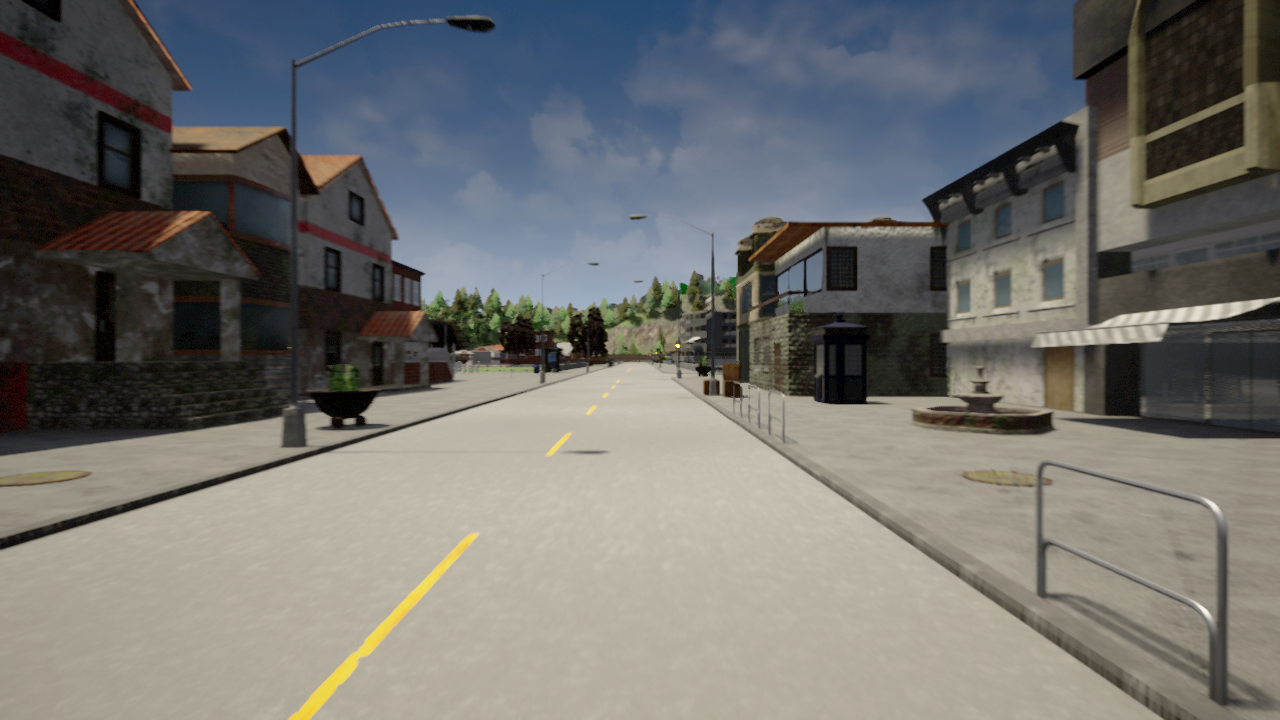yellow: (674, 339, 681, 352)
